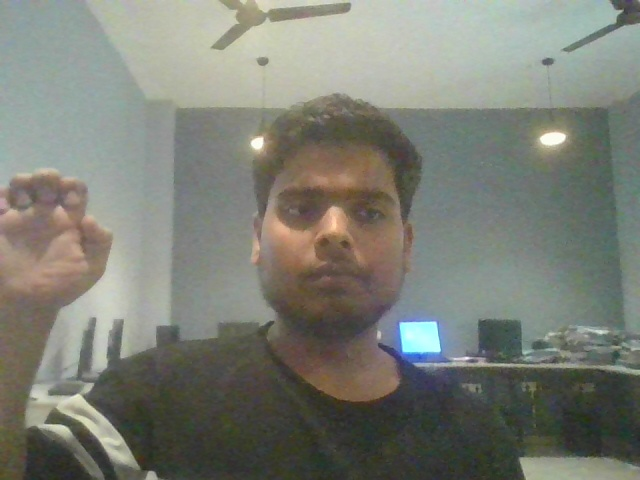C: (1, 164, 129, 328)
